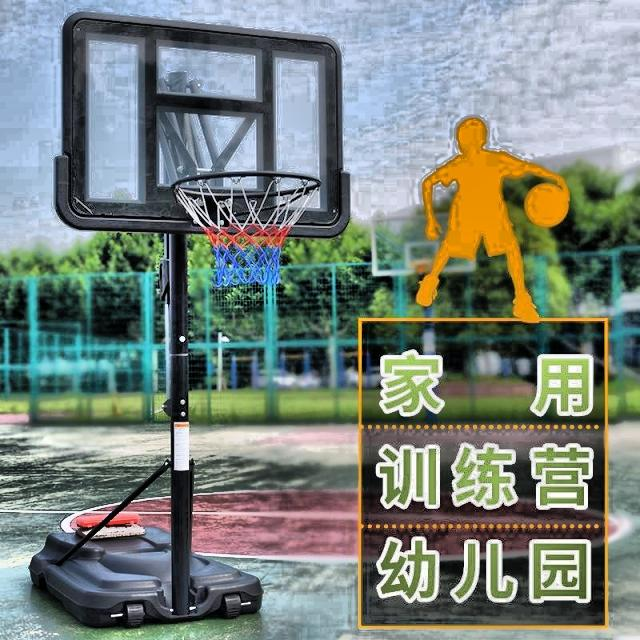rim: (168, 170, 322, 288)
